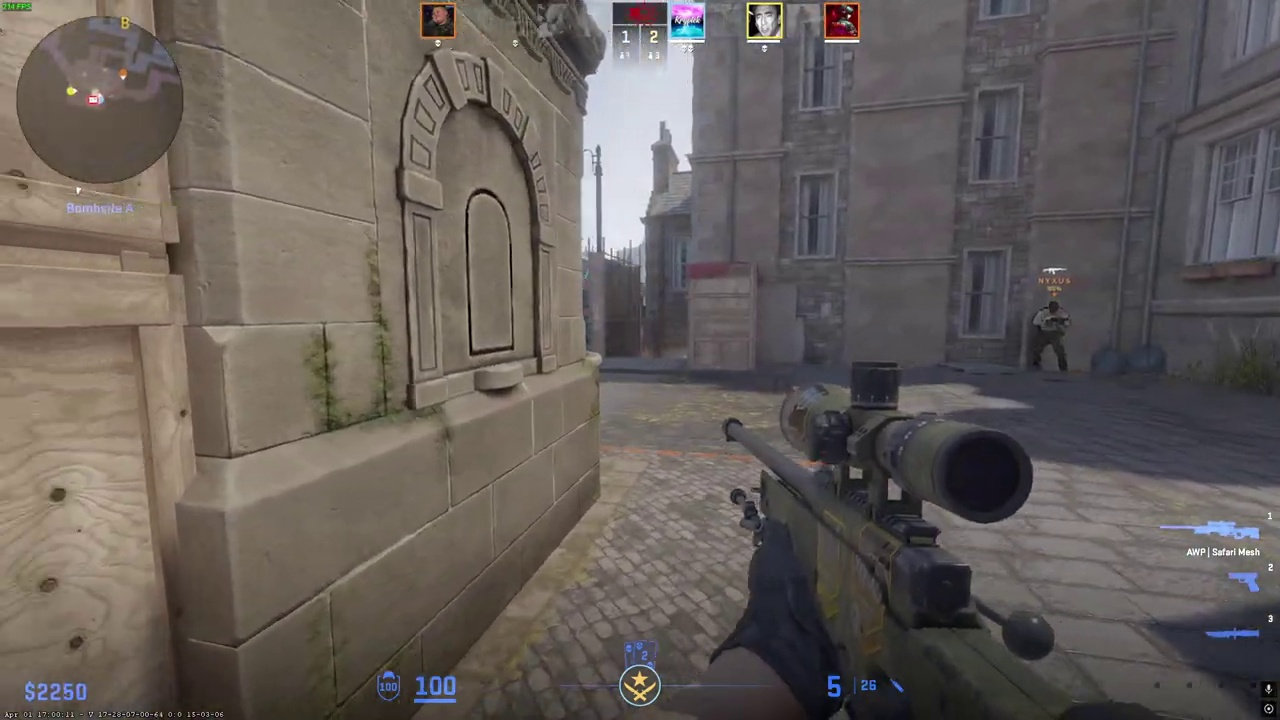Terrorist: (1031, 301, 1070, 373)
